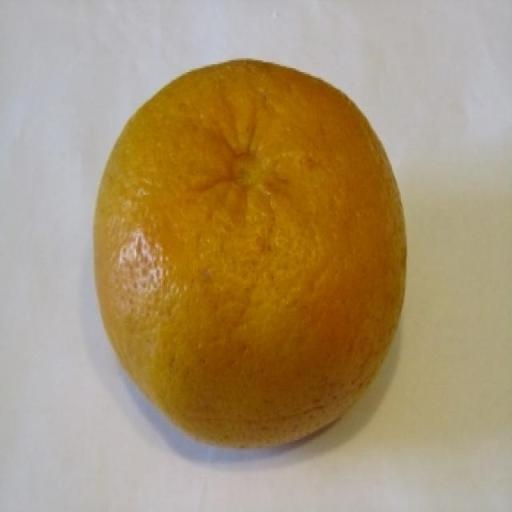fruit: (94, 61, 404, 446)
